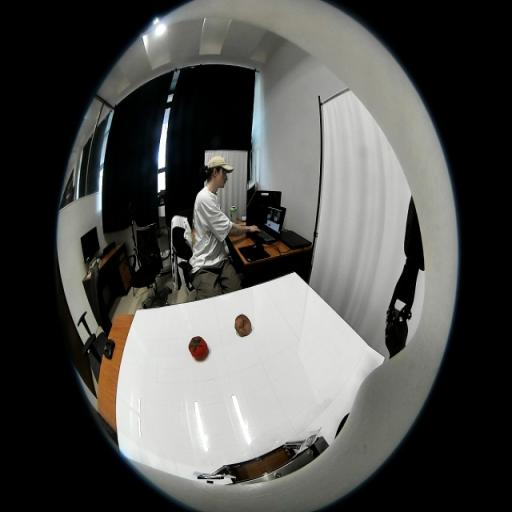Mushroom: (234, 314, 252, 336)
Tomato: (188, 336, 208, 361)
